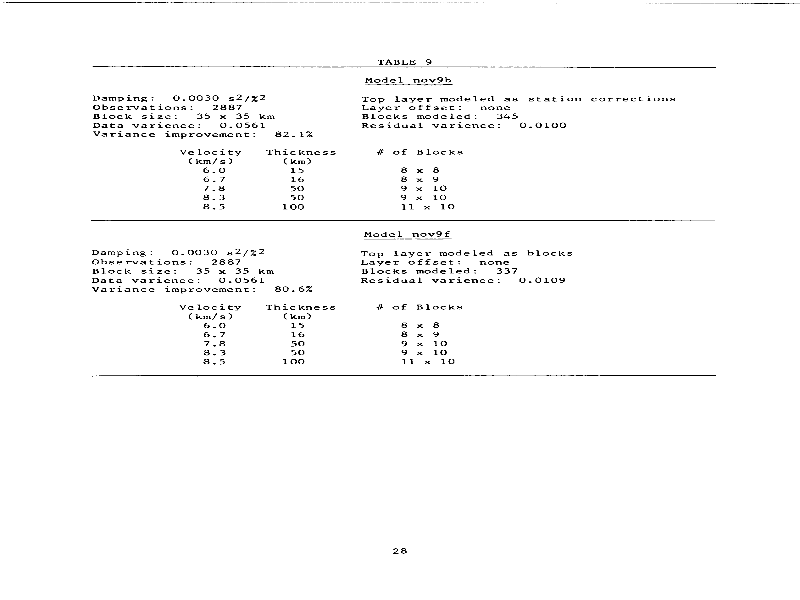table: (93, 220, 719, 377), (92, 66, 720, 220)
